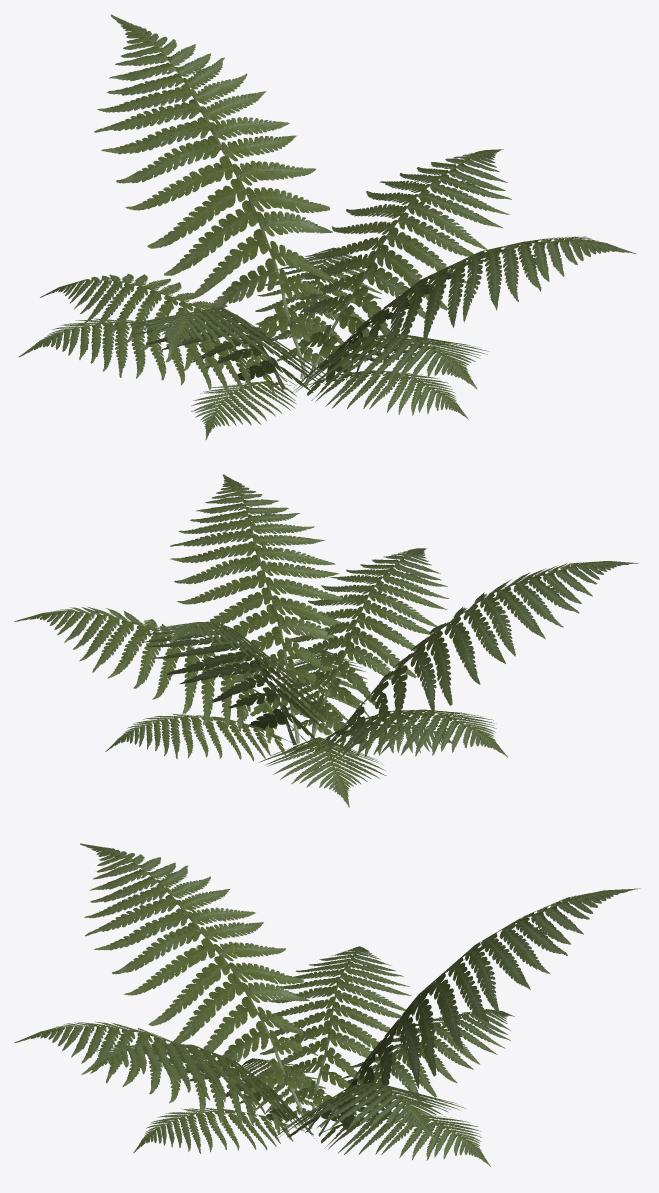
The picture shows the model from 3 angles, top to bottom: view 1: azimuth 30°, elevation 25°; view 2: azimuth 150°, elevation 25°; view 3: azimuth 270°, elevation 25°; orthographic projection. The views are drawn at different scales.
Visible parts, largest first — view 1: Tree_0; view 2: Tree_0; view 3: Tree_0.
Part boxes in pixels (bbox=[...]): Tree_0: bbox=[18, 14, 636, 440]; Tree_0: bbox=[14, 474, 638, 807]; Tree_0: bbox=[14, 843, 640, 1166].
Bounding box in the file's own units: 2.17 × 0.9346 × 2.26.
Materials: 1 (1 with a texture image).
